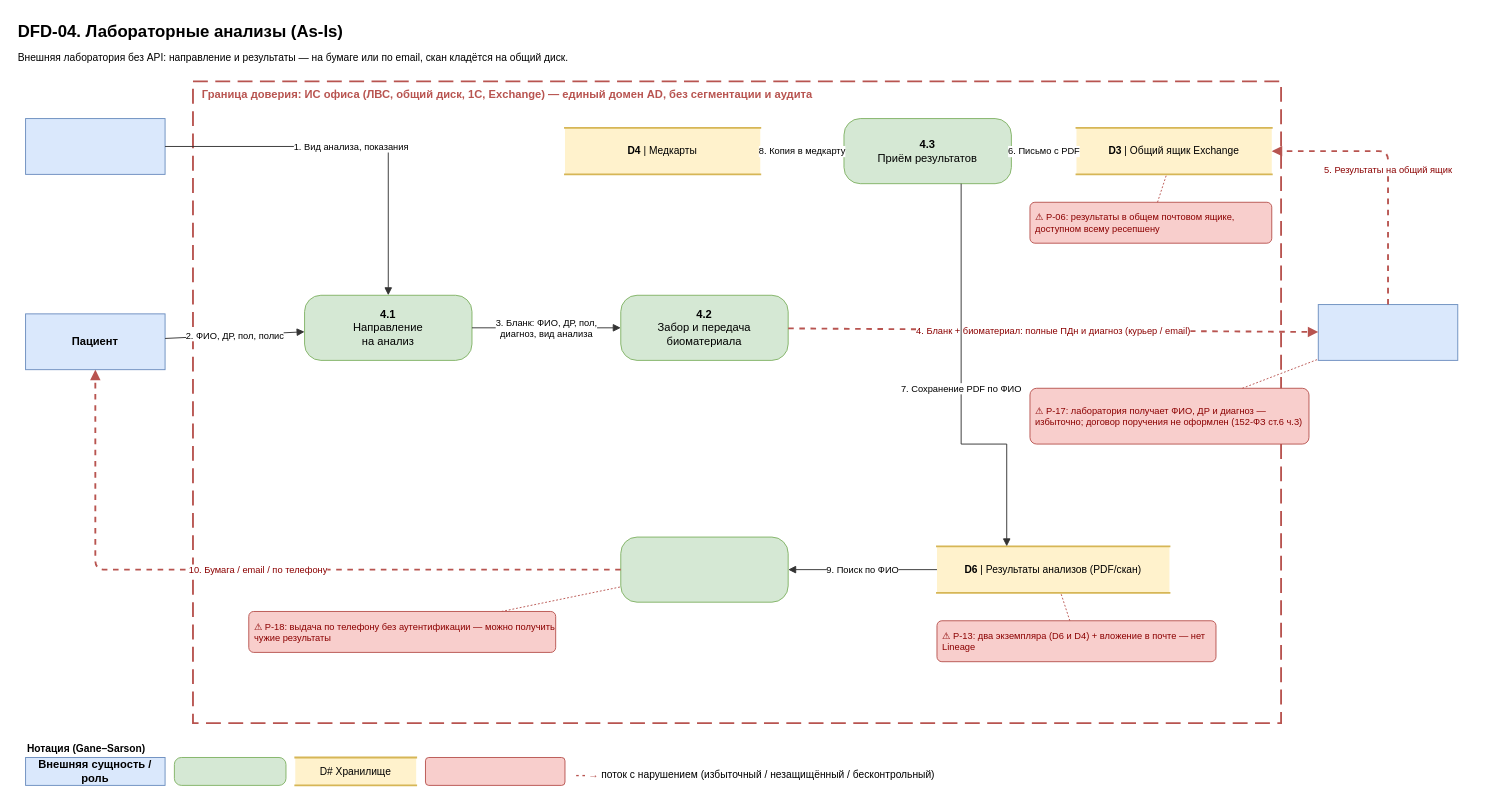
Some shapes in this 1501 by 802 pixel diagram are drawn without their labels. The shapes that lost their labels are listed below. From the top down, each one's centre as x and y in pixels, then its label:
At [95,146]: "Медицинский специалист".
At [1387,332]: "Внешняя лаборатория".
At [704,569]: "4.4 Выдача результатов пациенту".
At [229,771]: "Процесс".
At [495,771]: "⚠ P-xx — проблема (см. problems.md)".
